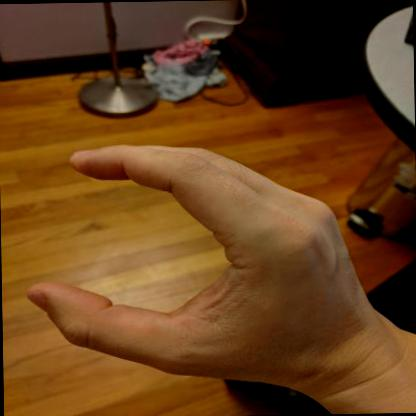C: (26, 144, 381, 394)
